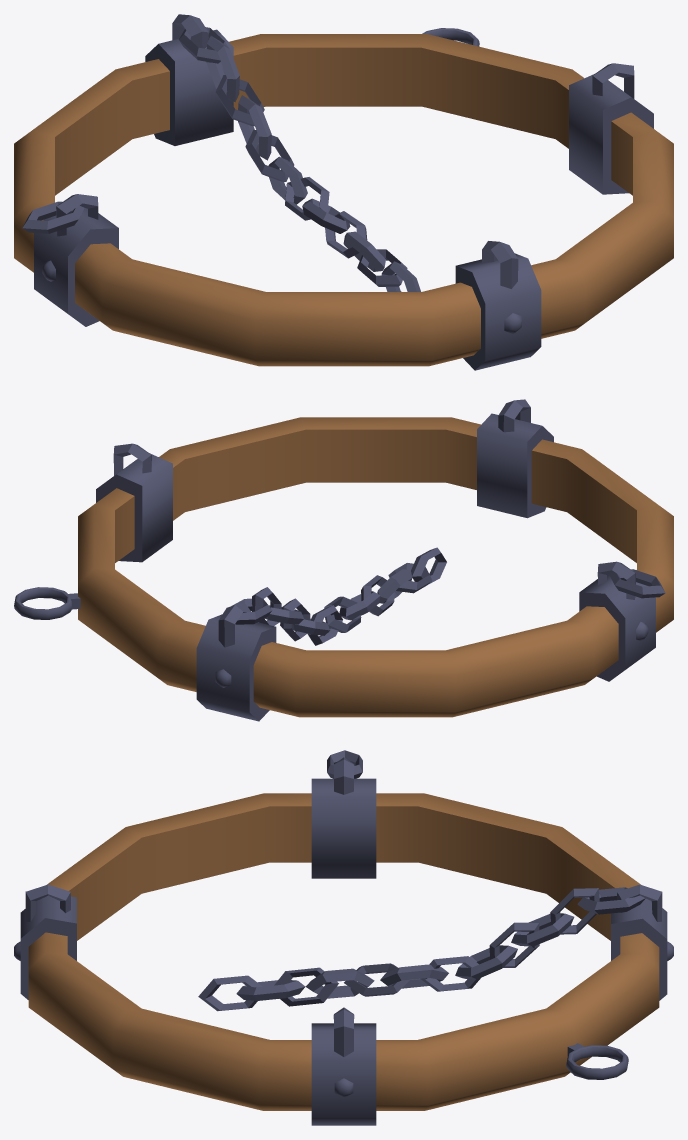
File: ChandelierBroken.fbx
3 renders of one model, top to bottom at view 1: azimuth 30°, elevation 25°; view 2: azimuth 150°, elevation 25°; view 3: azimuth 270°, elevation 25°, orthographic. The views are drawn at different scales.
Parts seen in each view (by area): view 1: ChandelierBroken; view 2: ChandelierBroken; view 3: ChandelierBroken.
Part boxes in pixels (x1,y1,x2,y2): ChandelierBroken: (14, 14, 673, 370); ChandelierBroken: (14, 399, 673, 721); ChandelierBroken: (14, 750, 673, 1125).
Bounding box in the file's own units: 260 × 53.36 × 251.
Materials: 2 (2 with a texture image).
